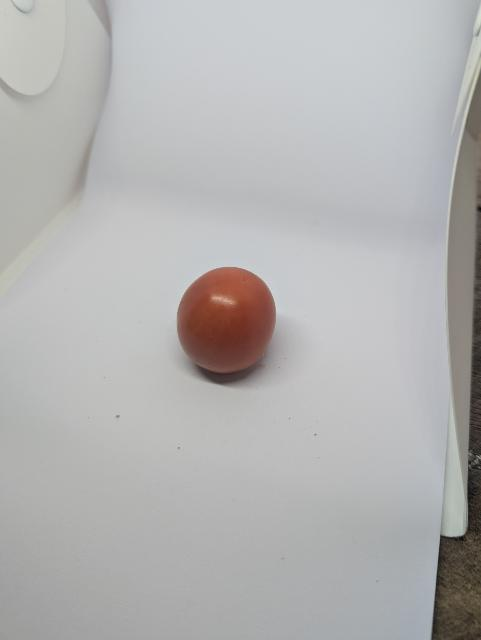red: (156, 248, 297, 401)
